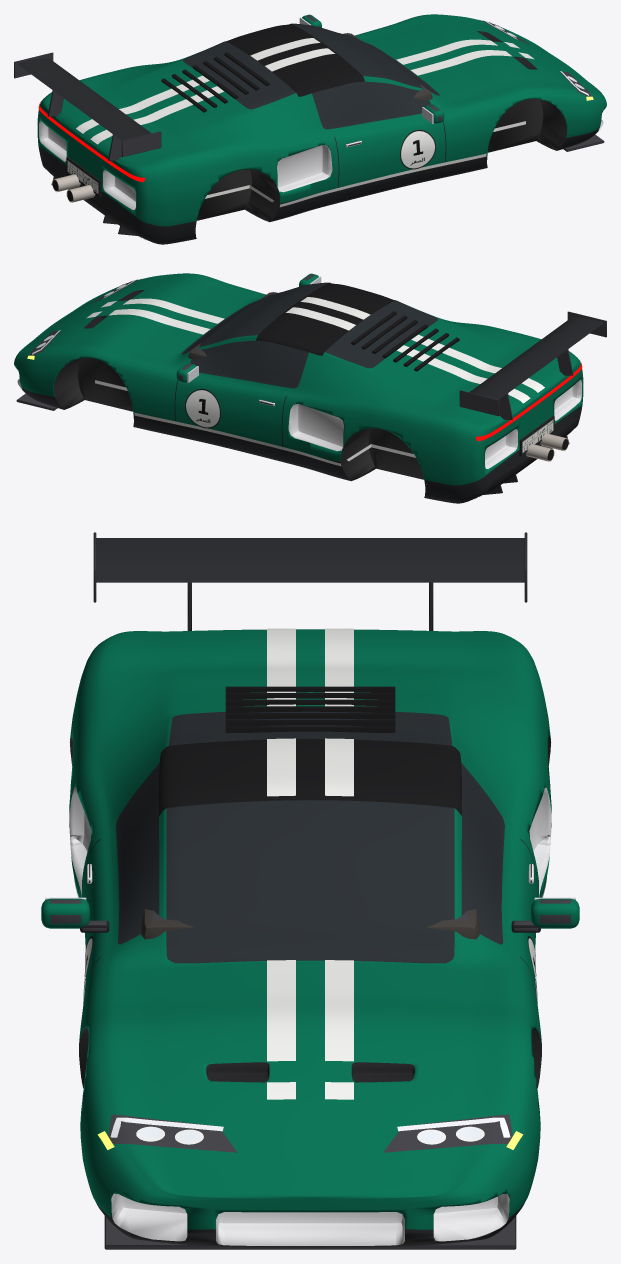
Rendered from SM_Falcon_Body.fbx.
3 renders of one model, top to bottom at view 1: azimuth 30°, elevation 25°; view 2: azimuth 150°, elevation 25°; view 3: azimuth 270°, elevation 25°, orthographic. The views are drawn at different scales.
Visible parts, largest first — view 1: SM_Falcon_Body; view 2: SM_Falcon_Body; view 3: SM_Falcon_Body.
Part boxes in pixels (x1,y1,x2,y2): SM_Falcon_Body: (14,14,606,244); SM_Falcon_Body: (14,273,606,503); SM_Falcon_Body: (41,532,579,1249).
Size of the model in its own units: 484 by 118 by 222.
